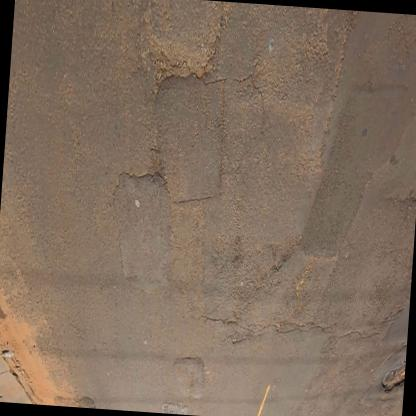manholes: (374, 337, 407, 405)
